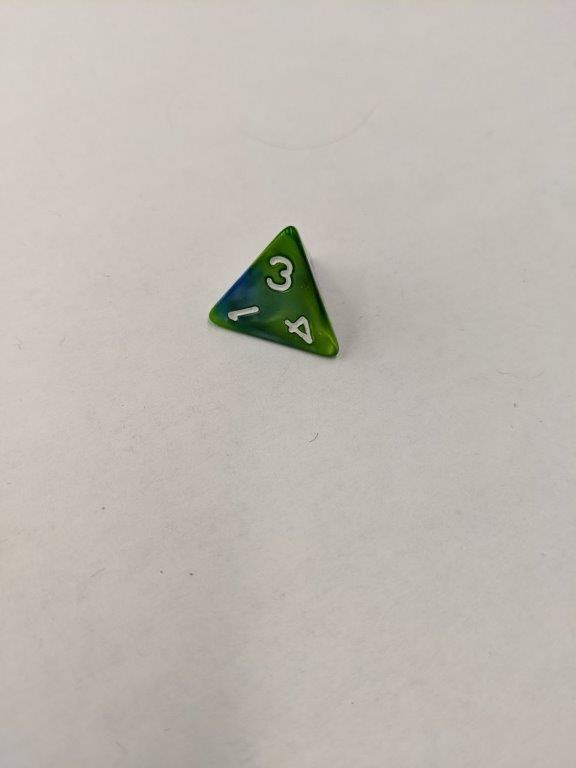d4-3: (209, 223, 340, 365)
